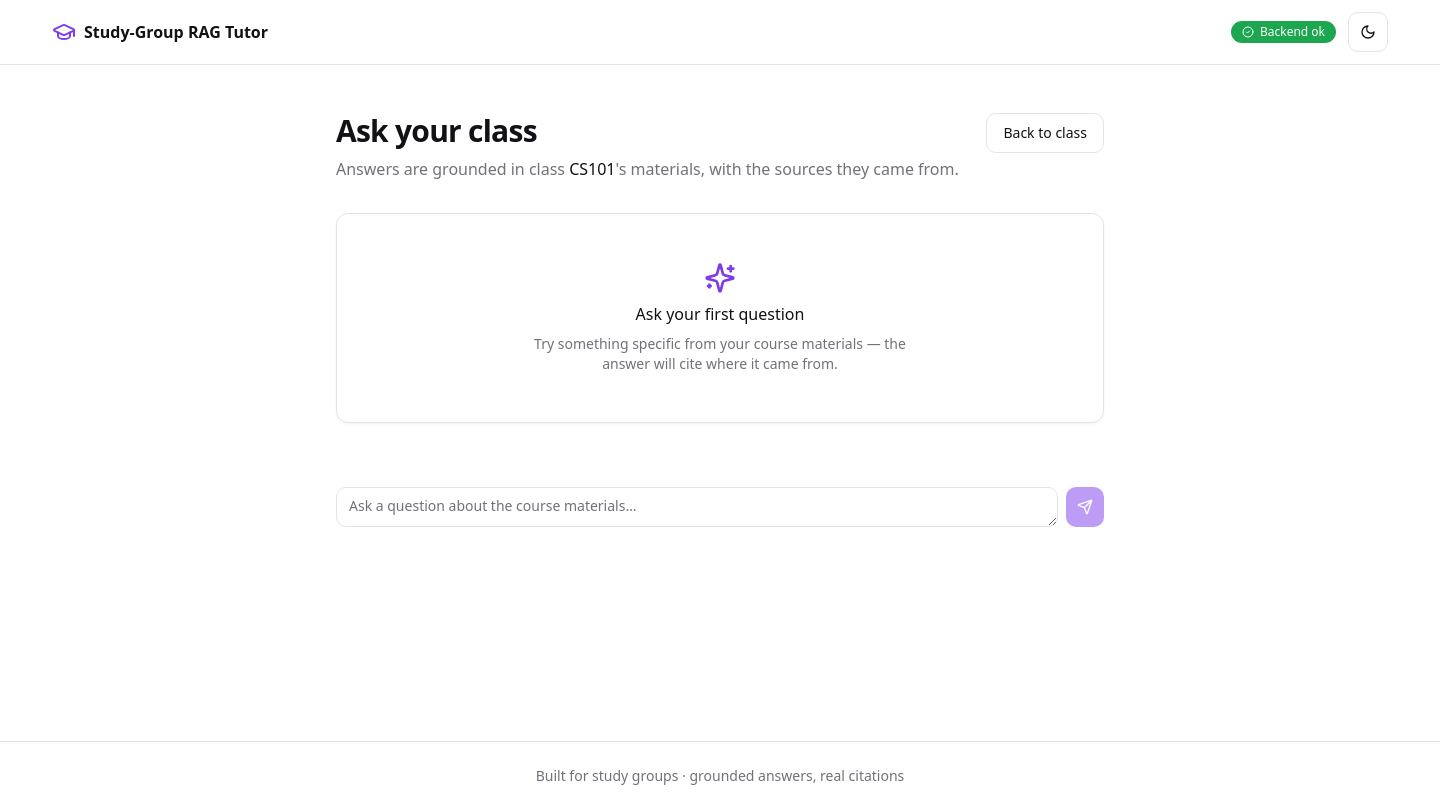
Test case: AskPage › clears the input after sending
This screenshot has width=1440, height=810.
Type "What does the membrane do?" into the text box named "your question".
click(697, 507); type("What does the membrane do?")  # box [336,487,1058,527]
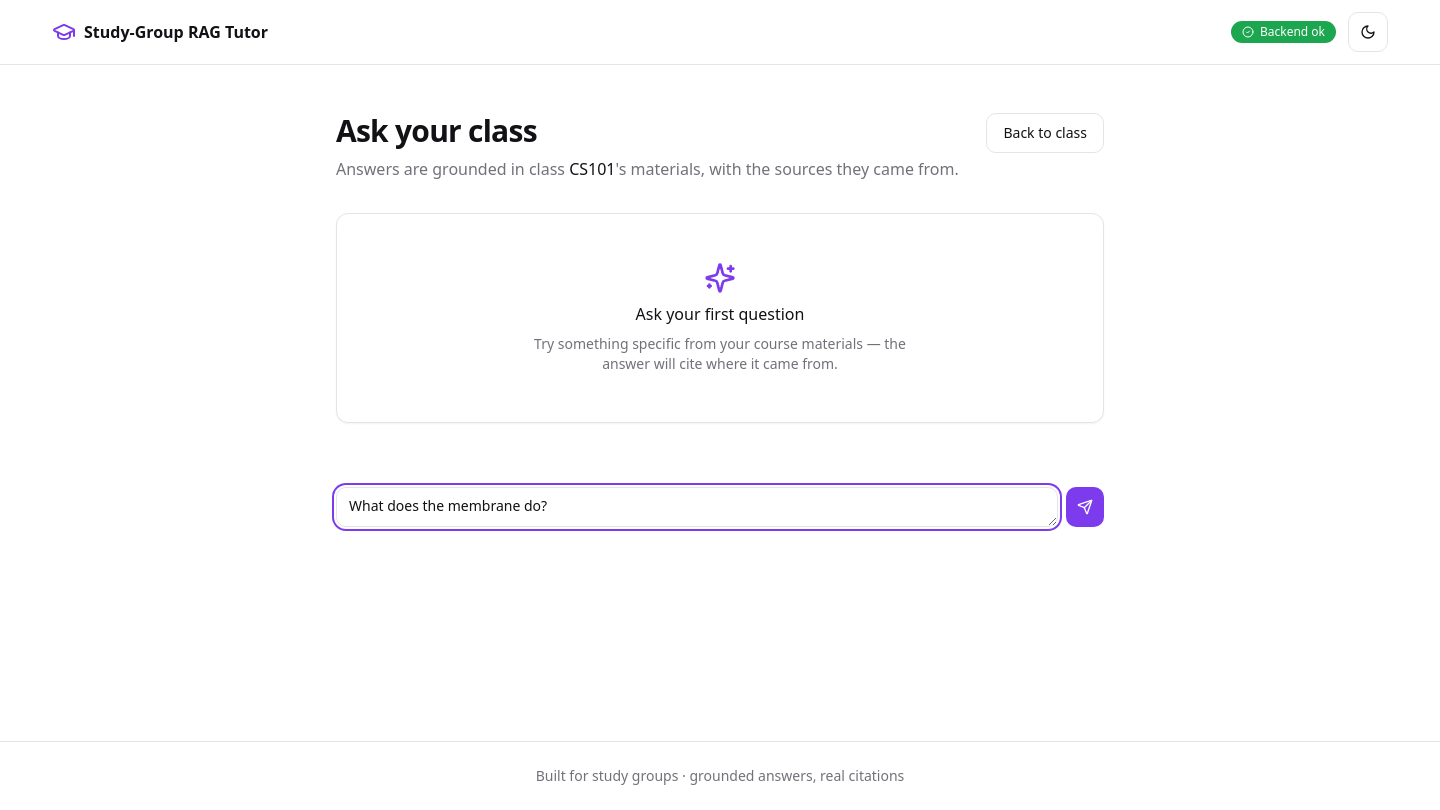
Click the button named "send question".
click(1085, 507)  # box [1066,487,1104,527]
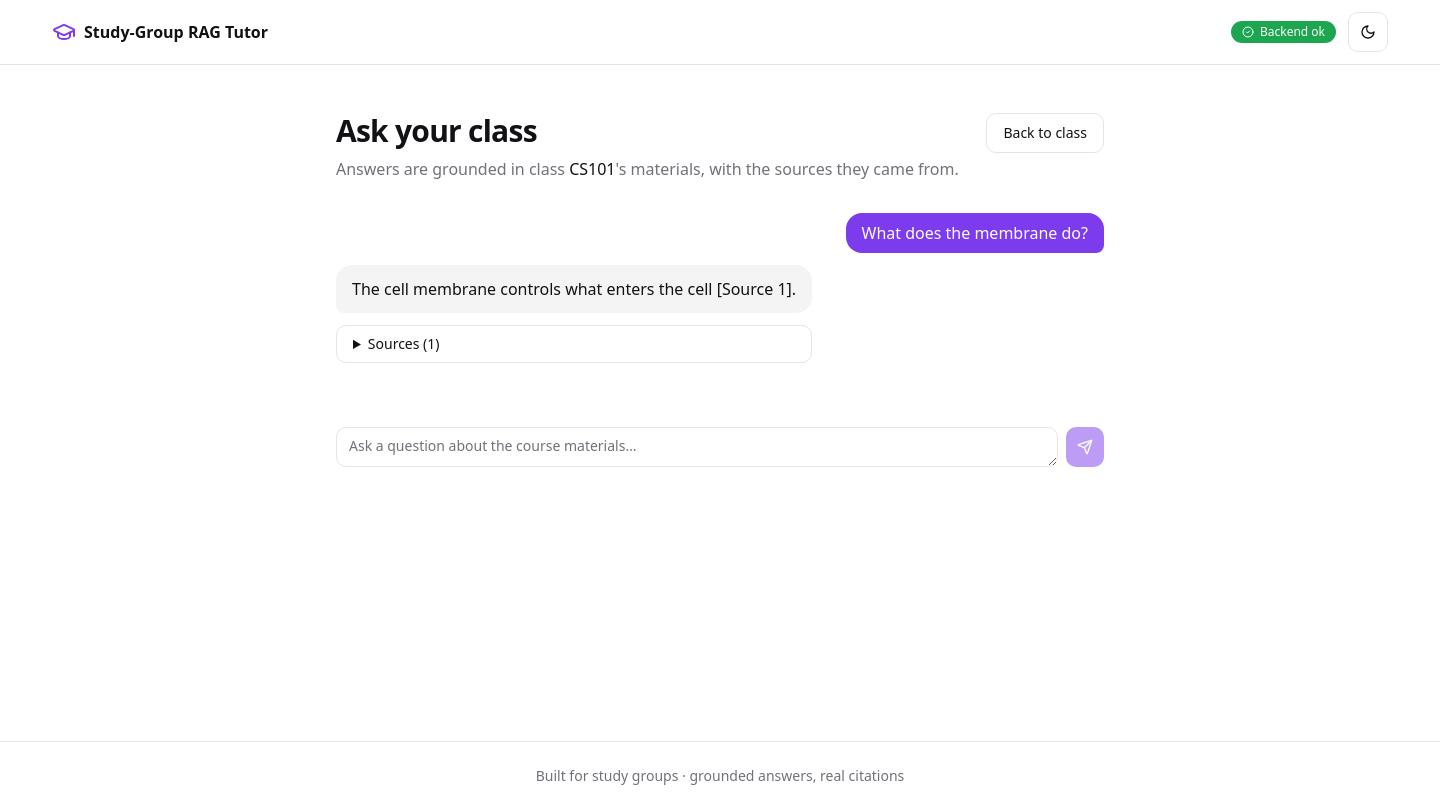
Result: the text "The cell membrane controls what enters the cell [Source 1]." is shown at [336,265,812,313]
Result: the text box named "your question" is empty at [336,427,1058,467]
